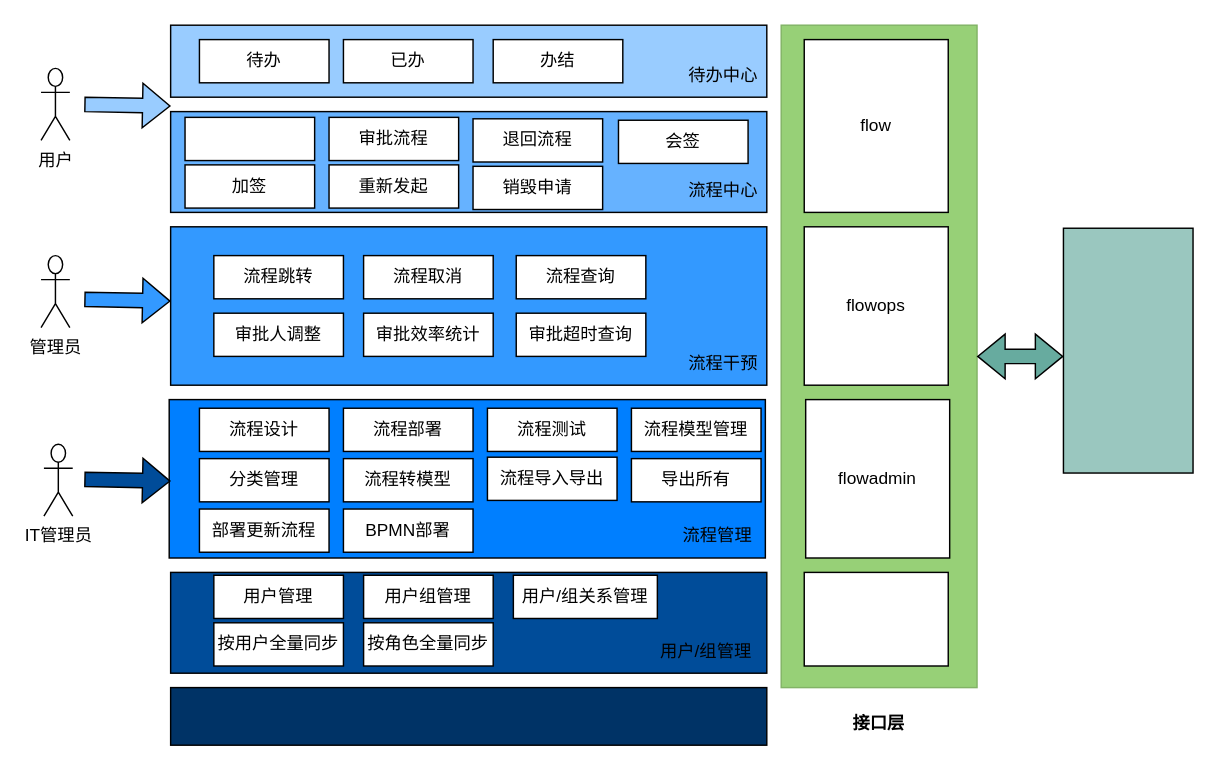
Some shapes in this 1218 by 770 pixel diagram are drawn without their labels. The centre of each missing label's shape, as x and y in pixels:
"Flowable" belongs at point 468,715.
"identity" belongs at point 875,618.
"业务系统" belongs at point 1127,350.
"发起流程" belongs at point 249,138.
